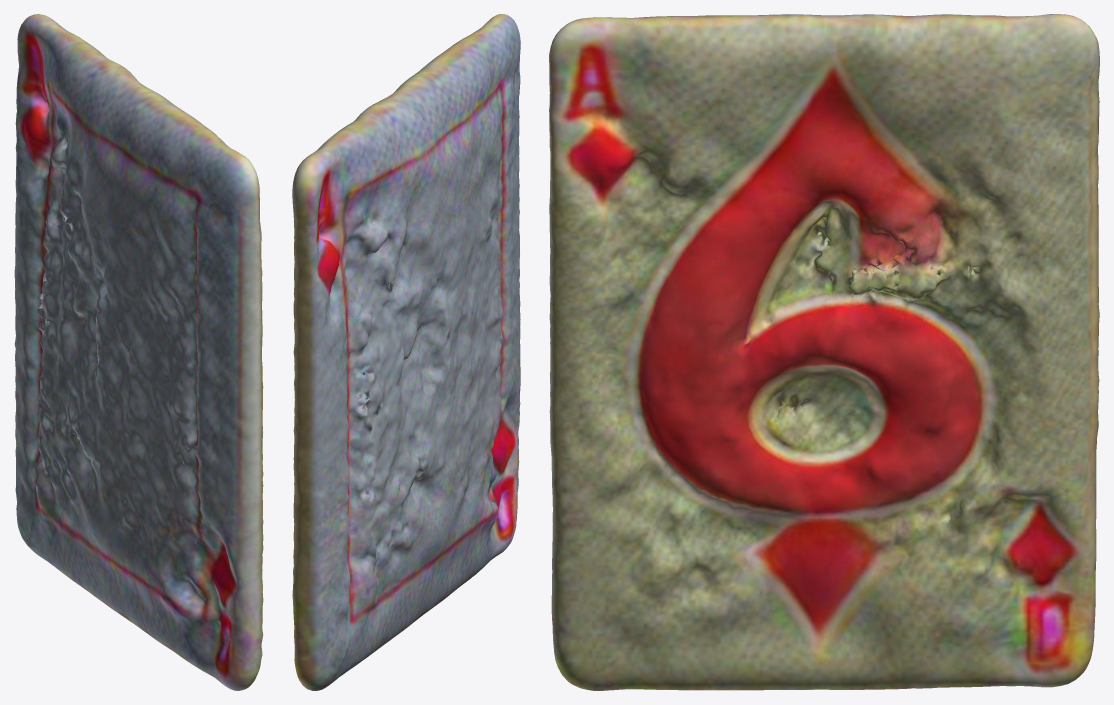
File: card_15.glb
The picture shows the model from 3 angles, left to right: view 1: azimuth 30°, elevation 25°; view 2: azimuth 150°, elevation 25°; view 3: azimuth 270°, elevation 25°; orthographic projection. The views are drawn at different scales.
Parts seen in each view (by area): view 1: Mesh1; view 2: Mesh1; view 3: Mesh1.
Boxes of the visible parts, x1,y1,x2,y2 form: Mesh1: (14,14,263,690); Mesh1: (292,14,520,690); Mesh1: (549,14,1099,690).
Bounding box in the file's own units: 0.1729 × 1.2 × 0.8926.
1 material, 1 textured.
